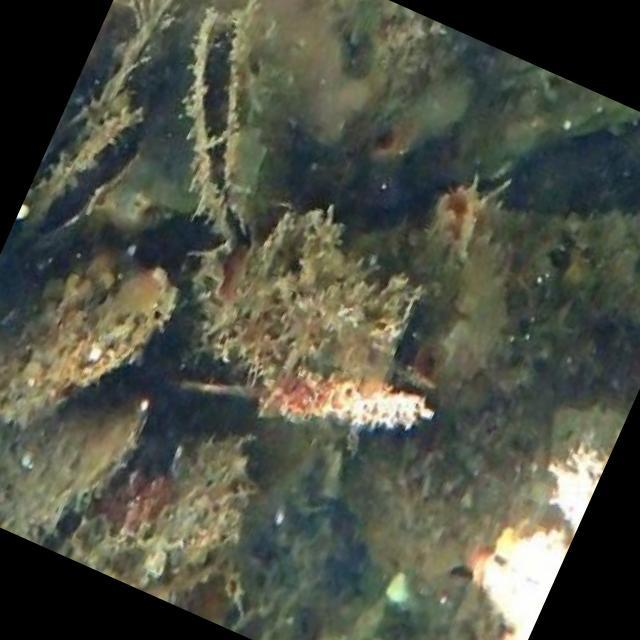Oyster- Indeterminate: (82, 426, 262, 597)
Oyster-Closed: (0, 253, 175, 408), (0, 380, 152, 536)
Oyster-Open: (173, 3, 289, 236), (24, 79, 150, 253)
